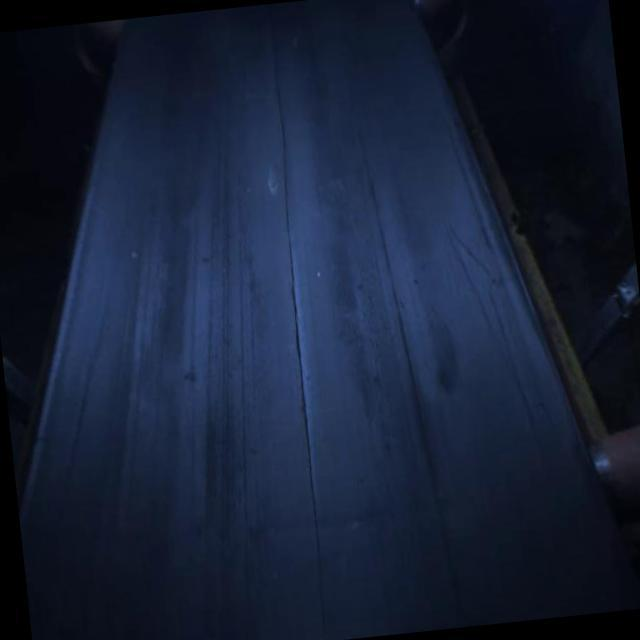Tear: (266, 45, 327, 588)
